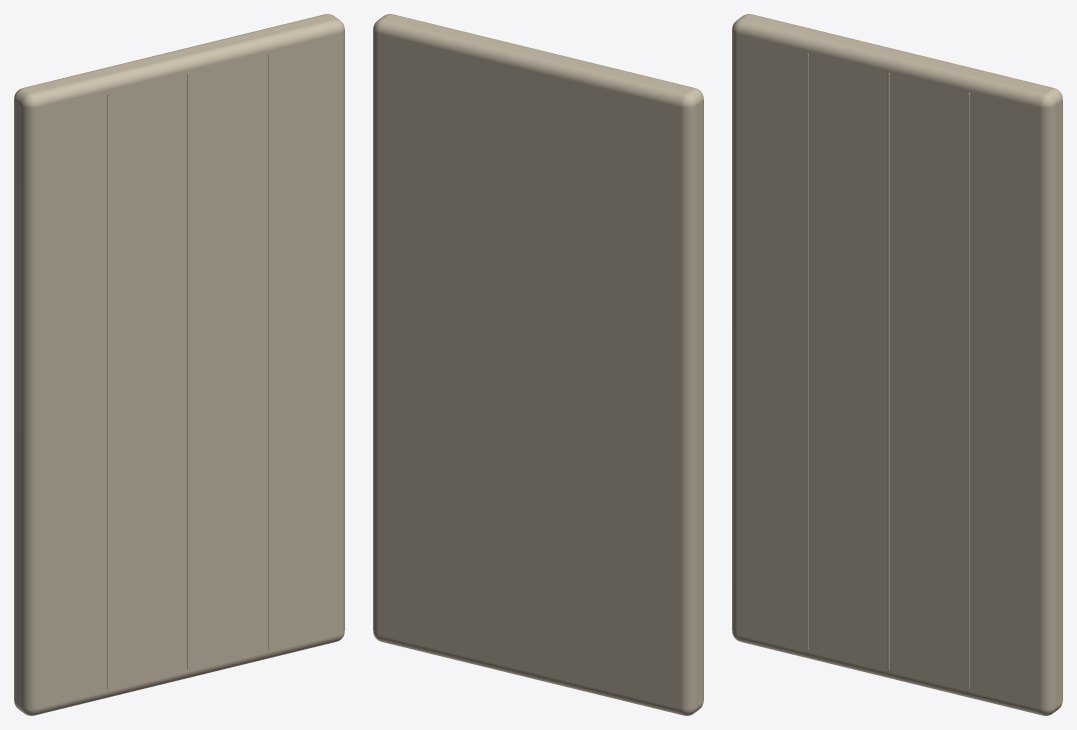
File: acousticPanel-1.glb
The picture shows the model from 3 angles, left to right: view 1: azimuth 30°, elevation 25°; view 2: azimuth 150°, elevation 25°; view 3: azimuth 330°, elevation 25°; orthographic projection.
Parts seen in each view (by area): view 1: acousticPanel:1:archviz; view 2: acousticPanel:1:archviz; view 3: acousticPanel:1:archviz.
Part boxes in pixels (x1,y1,x2,y2): acousticPanel:1:archviz: [14, 14, 344, 715]; acousticPanel:1:archviz: [373, 14, 703, 715]; acousticPanel:1:archviz: [732, 14, 1062, 715].
Size of the model in its own units: 0.65 by 1.2 by 0.062.
